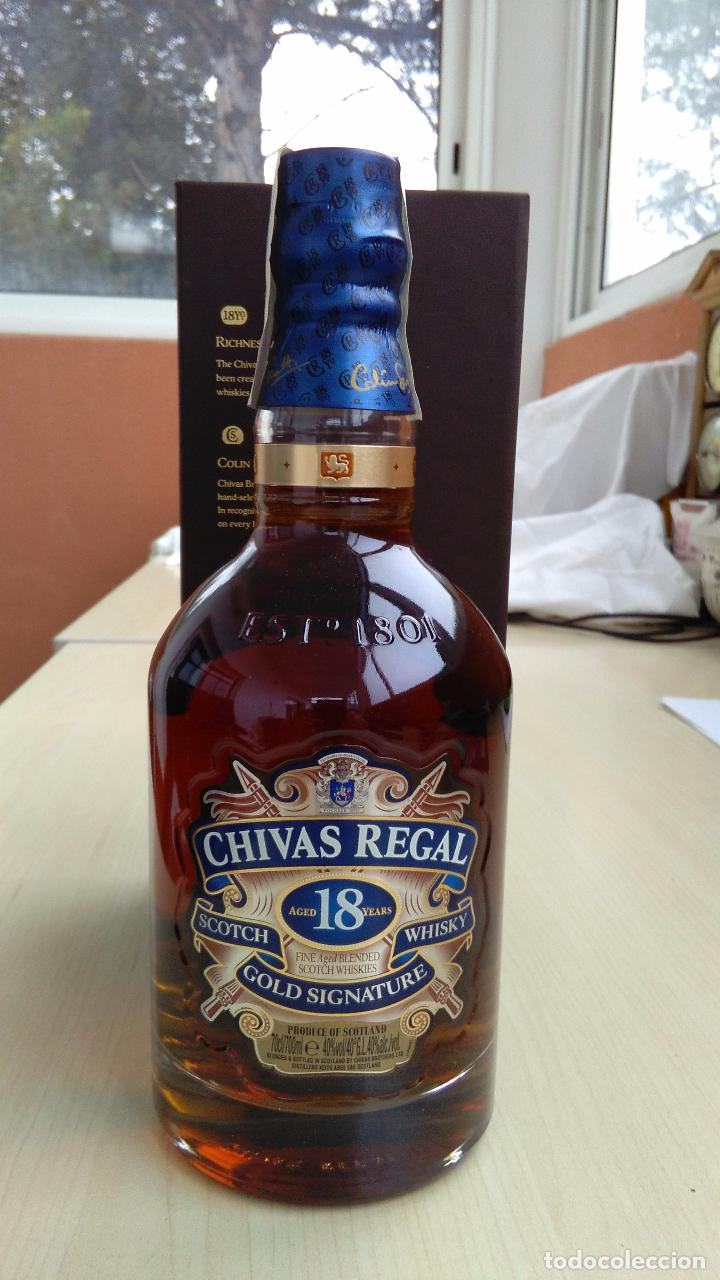Chivas Regal: (137, 138, 523, 1217)
